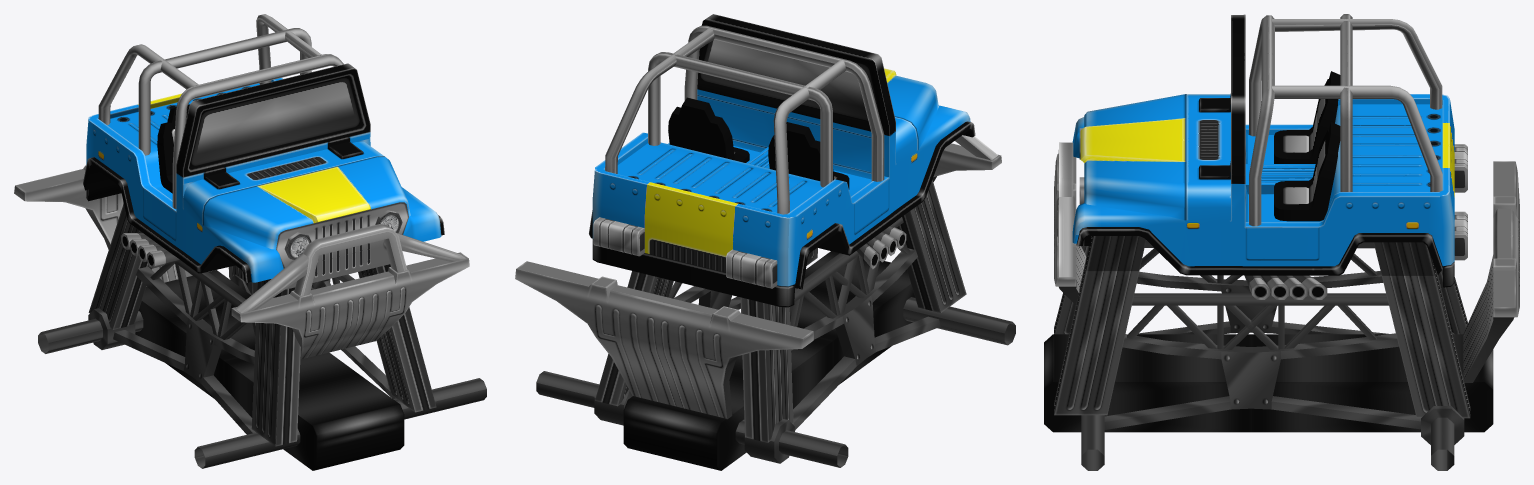
File: MTB.FBX
3 views of the same model, side by side, from view 1: azimuth 30°, elevation 25°; view 2: azimuth 150°, elevation 25°; view 3: azimuth 270°, elevation 25° (orthographic). The views are drawn at different scales.
Visible parts, largest first — view 1: monster_B; view 2: monster_B; view 3: monster_B.
Boxes of the visible parts, x1,y1,x2,y2 form: monster_B: (14,14,486,470); monster_B: (515,14,1015,470); monster_B: (1044,14,1519,470).
Bounding box in the file's own units: 0.2442 × 0.2636 × 0.3201.
